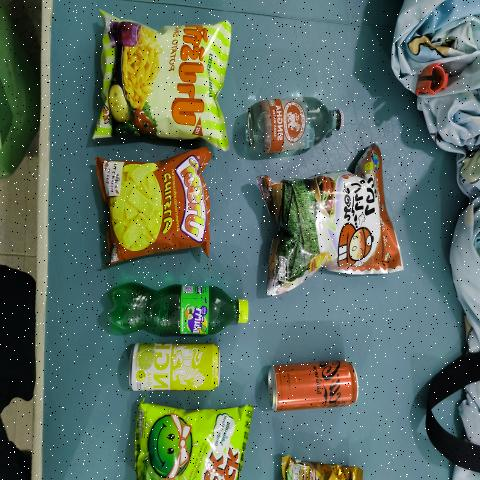coke_red: (267, 360, 357, 416)
fanta_green: (100, 281, 248, 338)
paprika: (107, 25, 222, 135)
party_red: (110, 156, 206, 260)
singha_soda: (238, 89, 350, 153)
singha_yellow: (130, 341, 216, 396)
taokaenoi: (258, 157, 392, 293)
